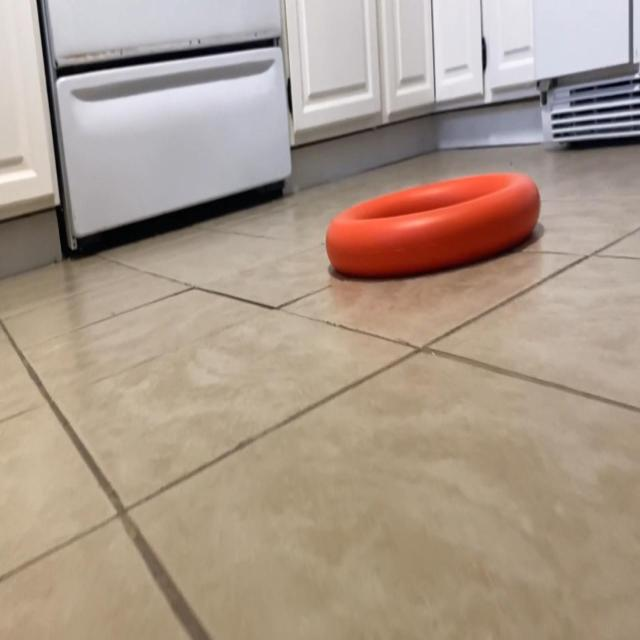note: (325, 166, 539, 277)
